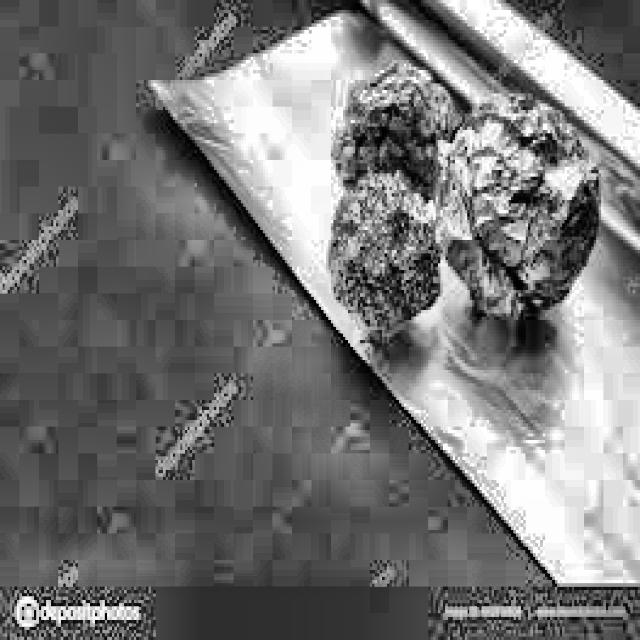Foil: (143, 0, 640, 583), (440, 74, 601, 308), (314, 170, 442, 344), (336, 54, 444, 175)
